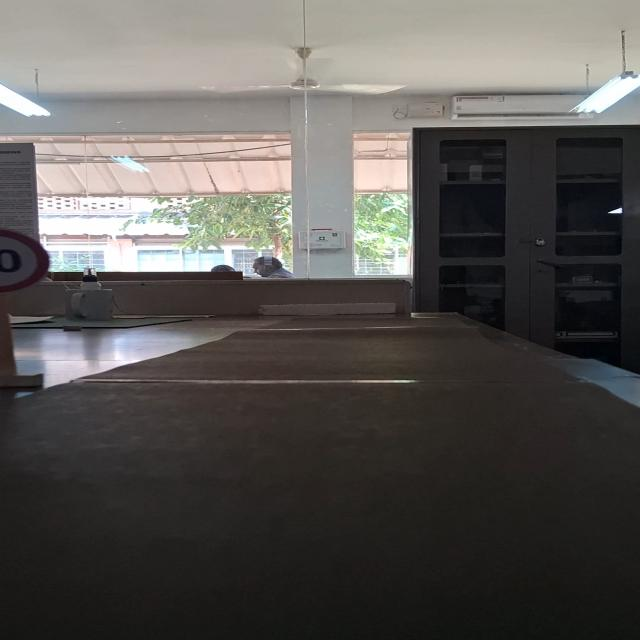Reject: (0, 224, 54, 297)
